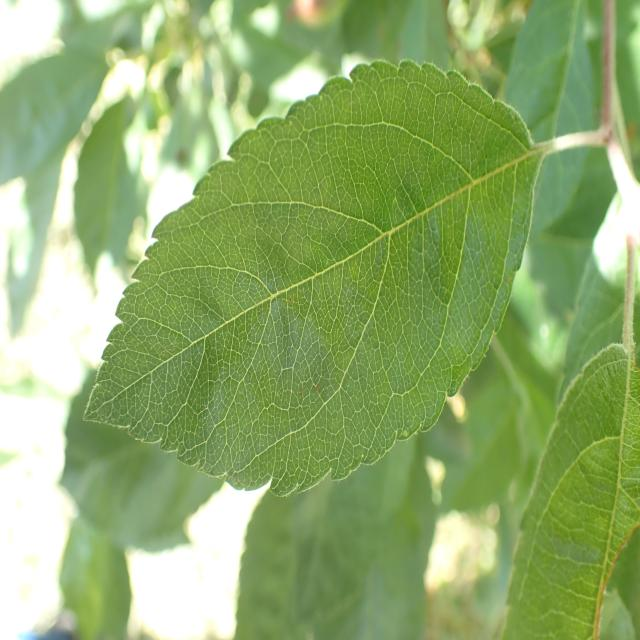healthy: (83, 58, 544, 498), (500, 342, 640, 640)
